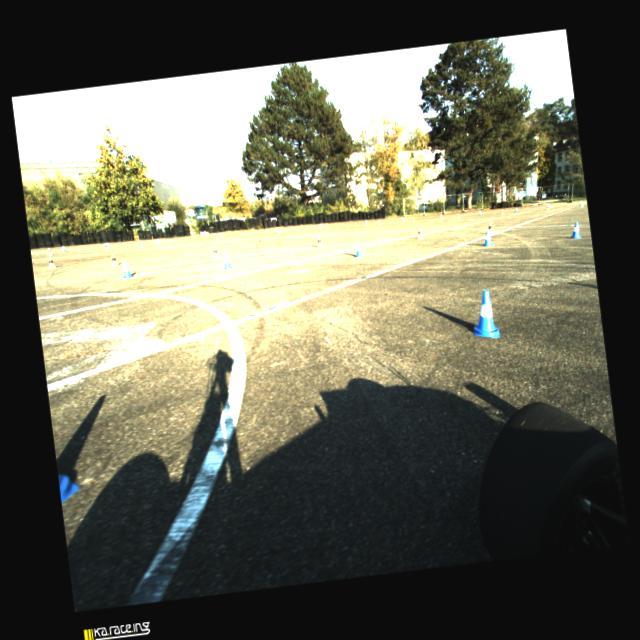blue_cone: (468, 288, 500, 340), (120, 259, 134, 278), (568, 221, 581, 239), (352, 239, 364, 258), (220, 251, 232, 270), (480, 228, 492, 246), (61, 244, 66, 252), (105, 241, 110, 248), (156, 237, 160, 243), (364, 218, 368, 224), (218, 232, 222, 238), (514, 206, 518, 212), (438, 213, 442, 218), (274, 227, 278, 232), (478, 210, 482, 215), (319, 222, 322, 228), (402, 216, 404, 221), (548, 204, 550, 209), (578, 201, 580, 205)
yellow_cone: (210, 244, 220, 260), (46, 255, 56, 269), (415, 226, 424, 240), (109, 252, 118, 266), (486, 220, 494, 235), (315, 234, 323, 248), (103, 242, 108, 250), (410, 216, 416, 222), (47, 248, 52, 255), (377, 218, 381, 226), (499, 208, 504, 214), (140, 240, 144, 247), (213, 233, 217, 240), (276, 228, 280, 235), (456, 212, 460, 218), (546, 204, 550, 210), (580, 201, 584, 206), (326, 223, 328, 229)
